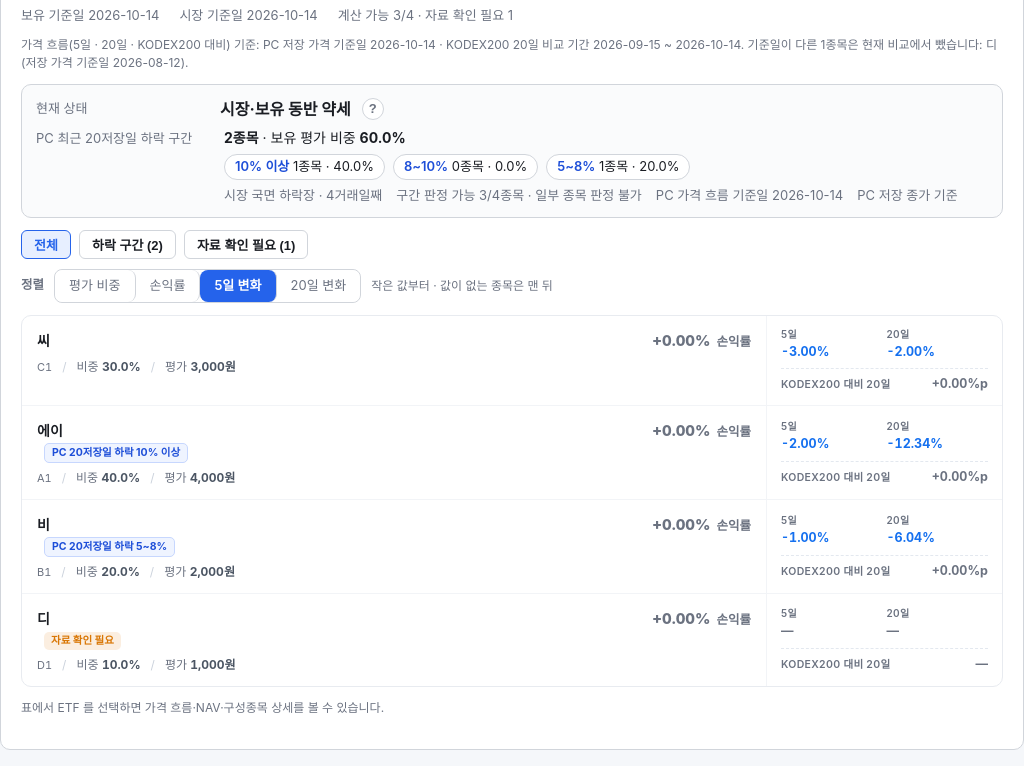
Test: 확인 근거 — 종목 상세 가격 흔들림 (POC5-16) › 기준일 다른 종목은 기본 묶음에 사유 · 선택 필드가 없는 종목은 '확인 불가'
(page scrolled)
What coordinates should you click on to do the following:
click the button with aria-label "디 상세 보기"
I would click on:
 (82, 641)
Its box is [22,594,1002,686].
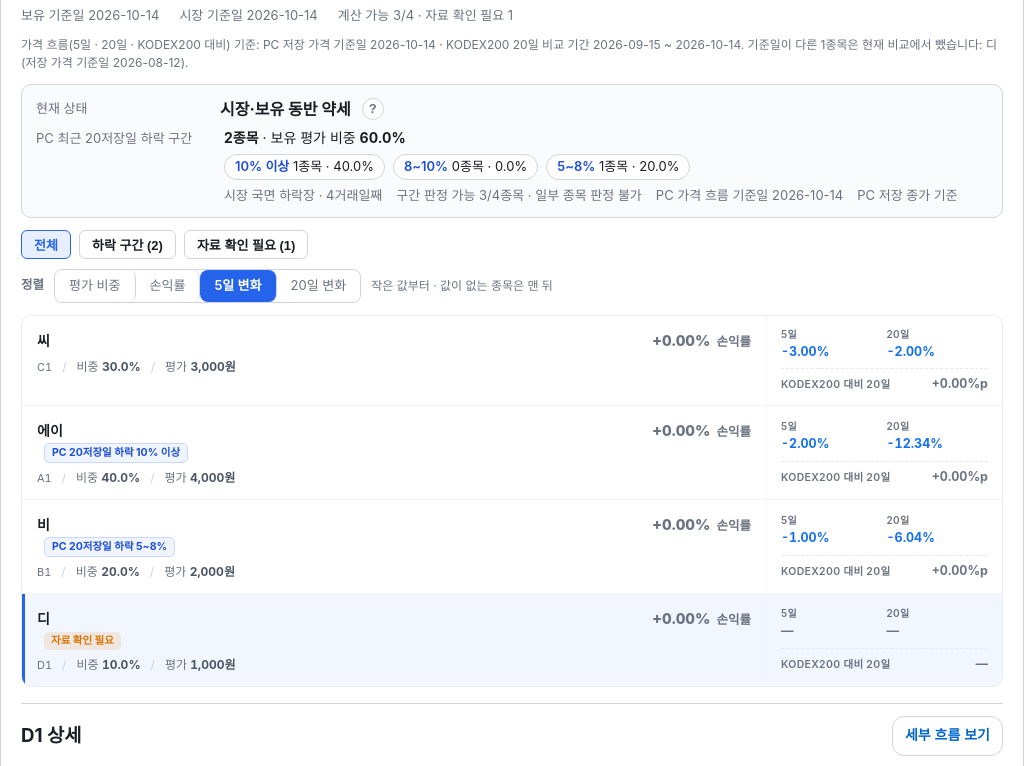
What coordinates should you click on to do the following:
click the button with aria-label "씨 상세 보기"
I would click on:
 (681, 340)
Its box is [22,316,1002,406].
(page scrolled)
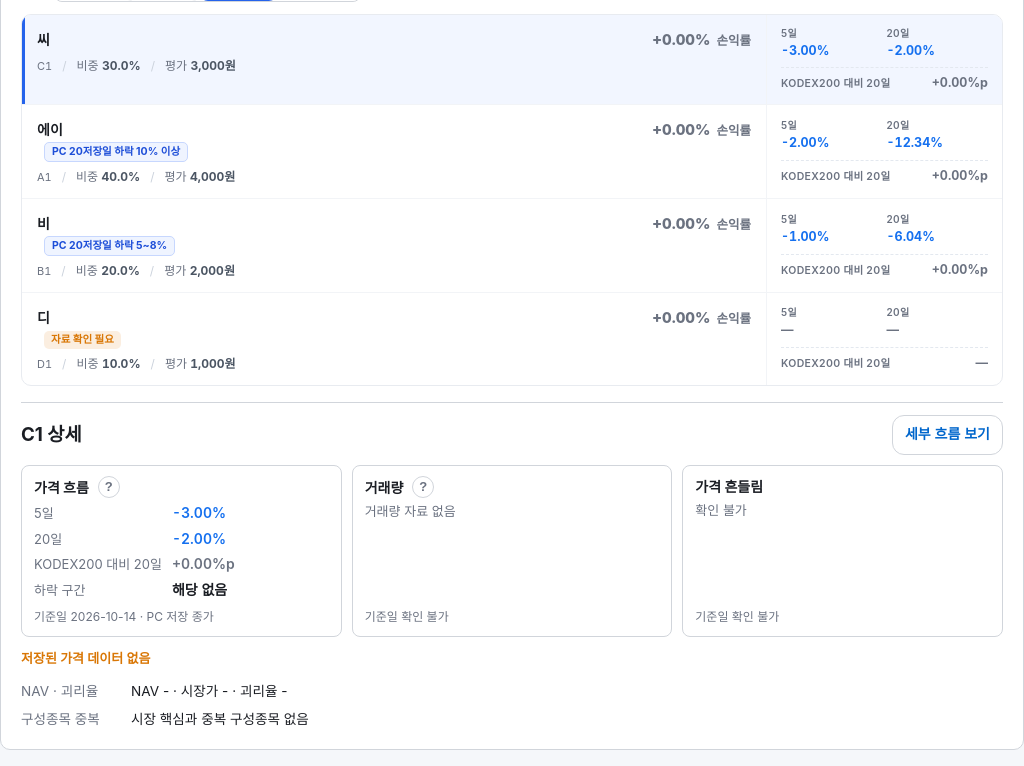
Now the element with test id "evg-volatility" shows "확인 불가", box [695,502,747,518]
